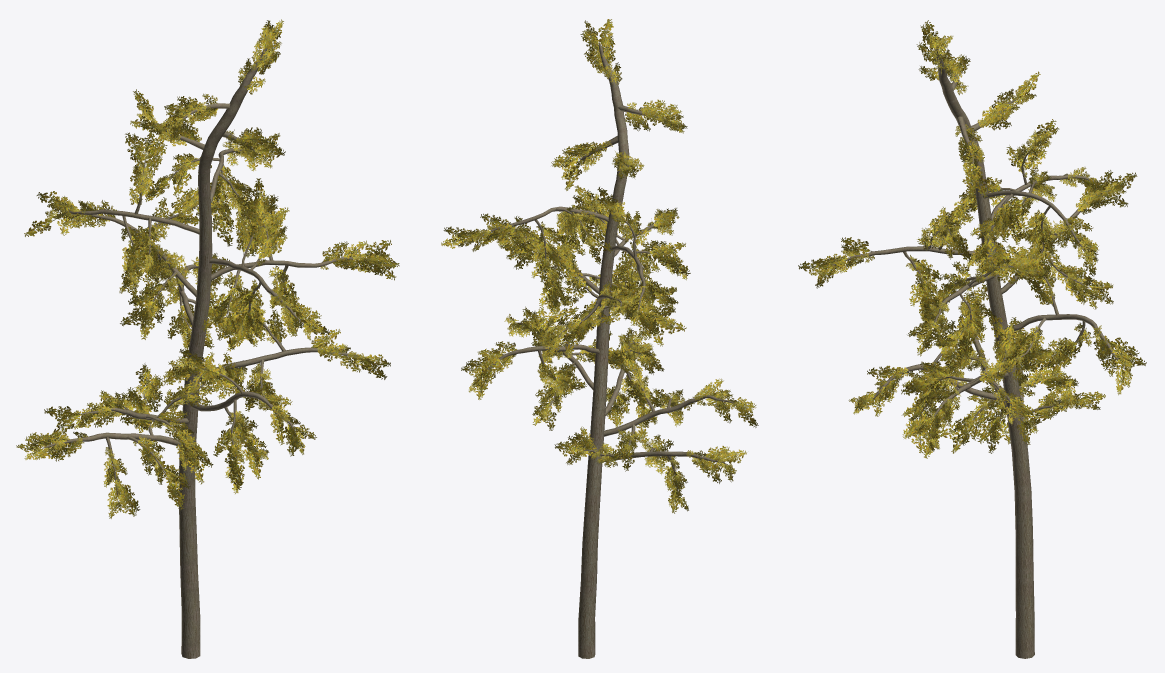
File: ez-birch.glb
3 views of the same model, side by side, from view 1: azimuth 30°, elevation 25°; view 2: azimuth 150°, elevation 25°; view 3: azimuth 270°, elevation 25° (orthographic). The views are drawn at different scales.
Parts seen in each view (by area): view 1: Tree; view 2: Tree; view 3: Tree.
Boxes of the visible parts, box(x1,y1,x2,y2) form: Tree: box(16, 19, 399, 658); Tree: box(441, 19, 758, 658); Tree: box(798, 20, 1146, 658).
Size of the model in its own units: 36.01 by 66.97 by 33.19.
Materials: 2 (2 with a texture image).
